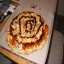pizza: (7, 13, 50, 54)
